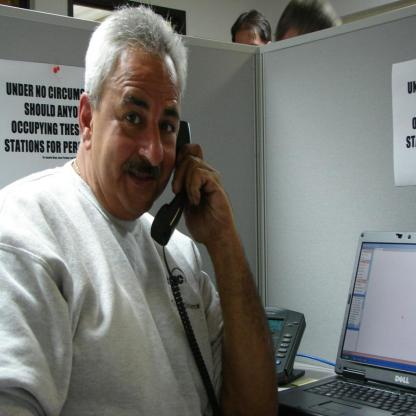board: (278, 227, 416, 416)
